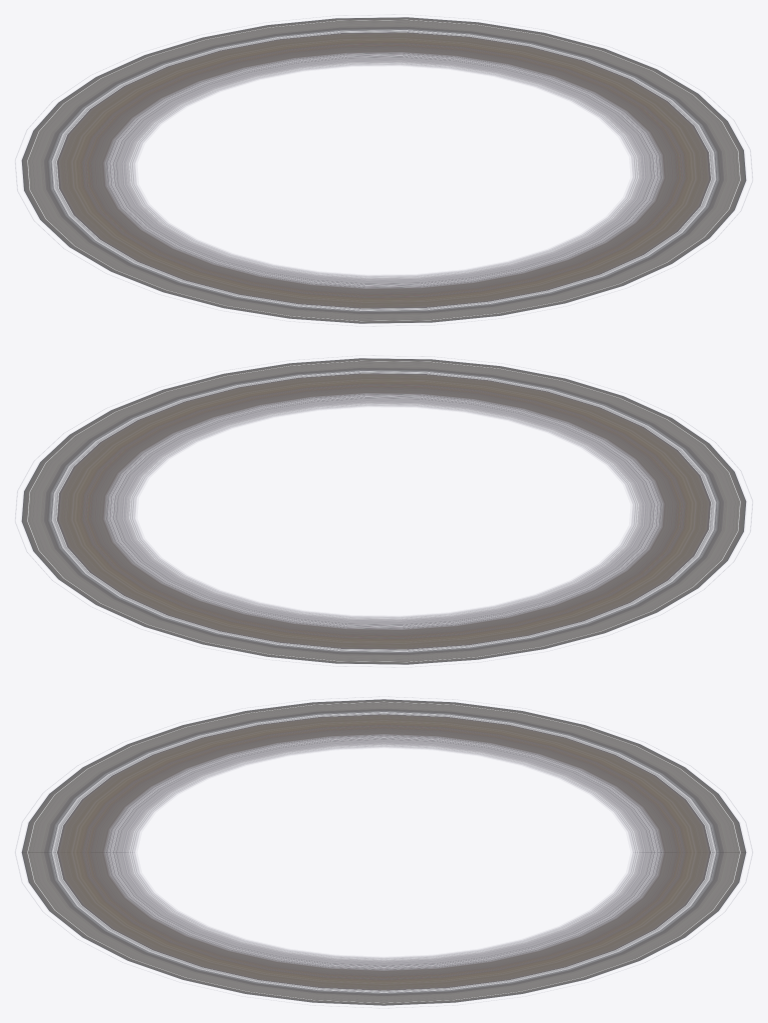
File: saturnRings.glb
The picture shows the model from 3 angles, top to bottom: view 1: azimuth 30°, elevation 25°; view 2: azimuth 150°, elevation 25°; view 3: azimuth 270°, elevation 25°; orthographic projection.
Visible parts, largest first — view 1: Rings; view 2: Rings; view 3: Rings.
Boxes of the visible parts, x1=… form: Rings: x1=21, y1=17, x2=746, y2=323; Rings: x1=21, y1=358, x2=746, y2=664; Rings: x1=21, y1=699, x2=746, y2=1005.
Size of the model in its own units: 4.57 by 0 by 4.57.
Materials: 1 (1 with a texture image).
